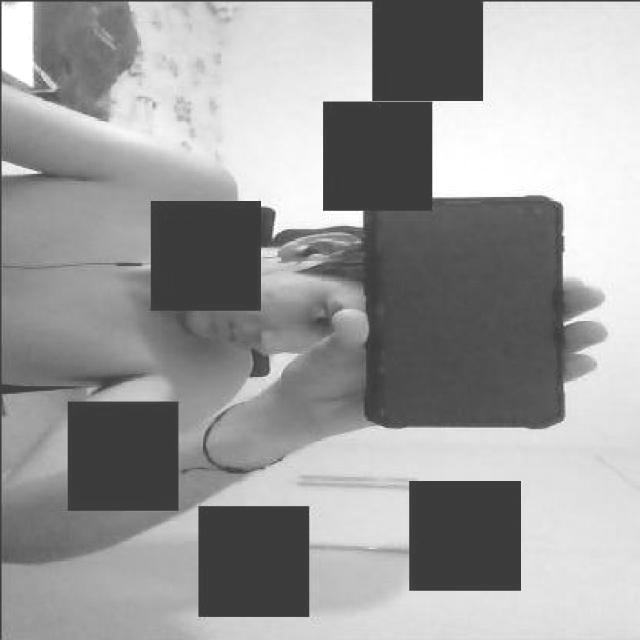fake: (356, 194, 566, 432)
real: (175, 235, 335, 339)
